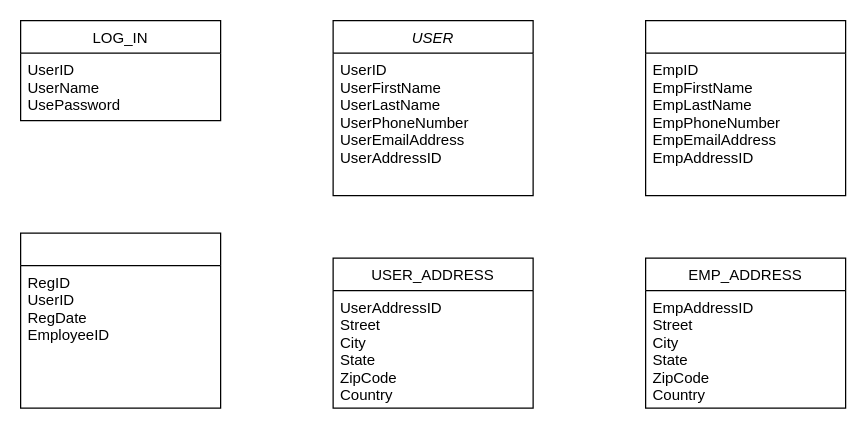
This 866x429 diagram has some shape labels left out. Here are the shapes that lost their labels. From the top down, the box of each, then its label:
(644, 19, 846, 196): EMPLOYEE
(19, 232, 221, 408): REGISTRATION
